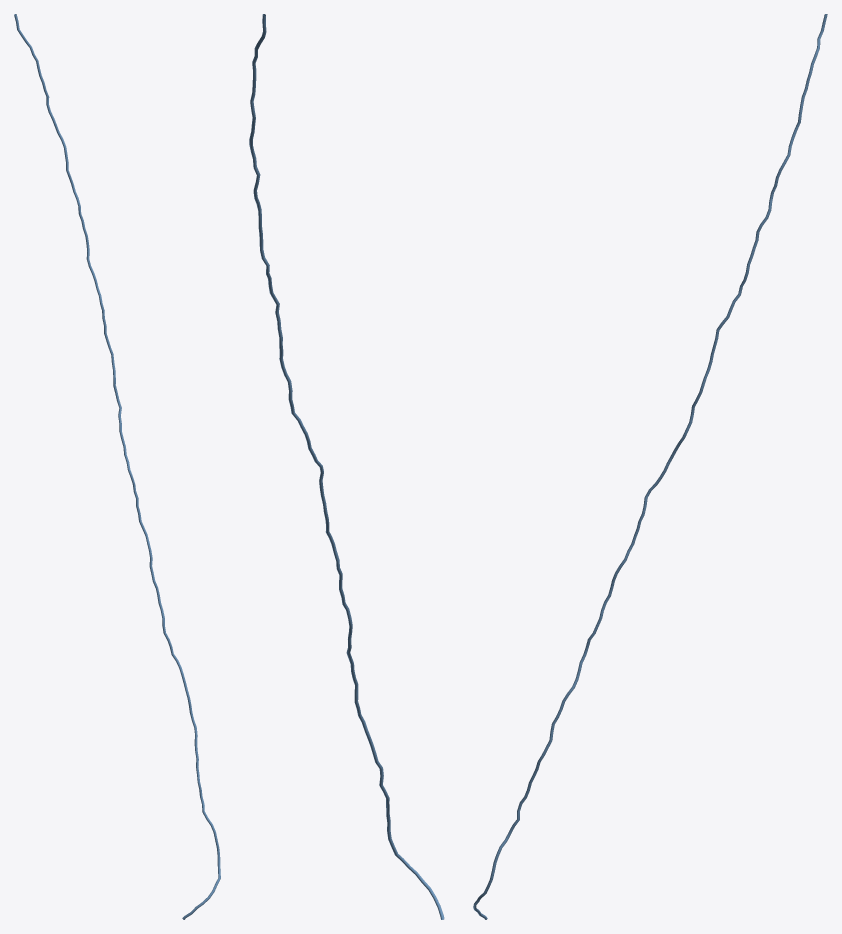
Rendered from sweep390.fbx.
3 renders of one model, left to right at view 1: azimuth 30°, elevation 25°; view 2: azimuth 150°, elevation 25°; view 3: azimuth 270°, elevation 25°, orthographic. The views are drawn at different scales.
Parts seen in each view (by area): view 1: sweep390; view 2: sweep390; view 3: sweep390.
Part boxes in pixels (x1=…): sweep390: x1=14, y1=14, x2=220, y2=919; sweep390: x1=249, y1=14, x2=444, y2=919; sweep390: x1=473, y1=14, x2=827, y2=919.
Size of the model in its own units: 0.4757 by 6.41 by 2.3.
